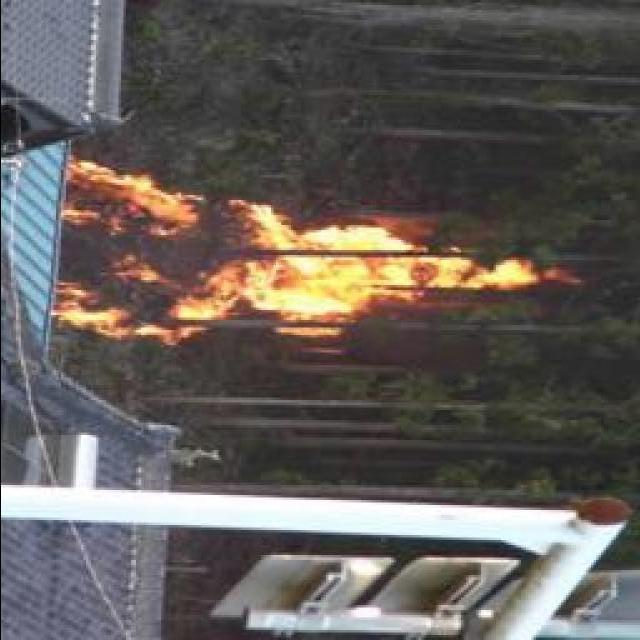Fire: (46, 163, 579, 346)
